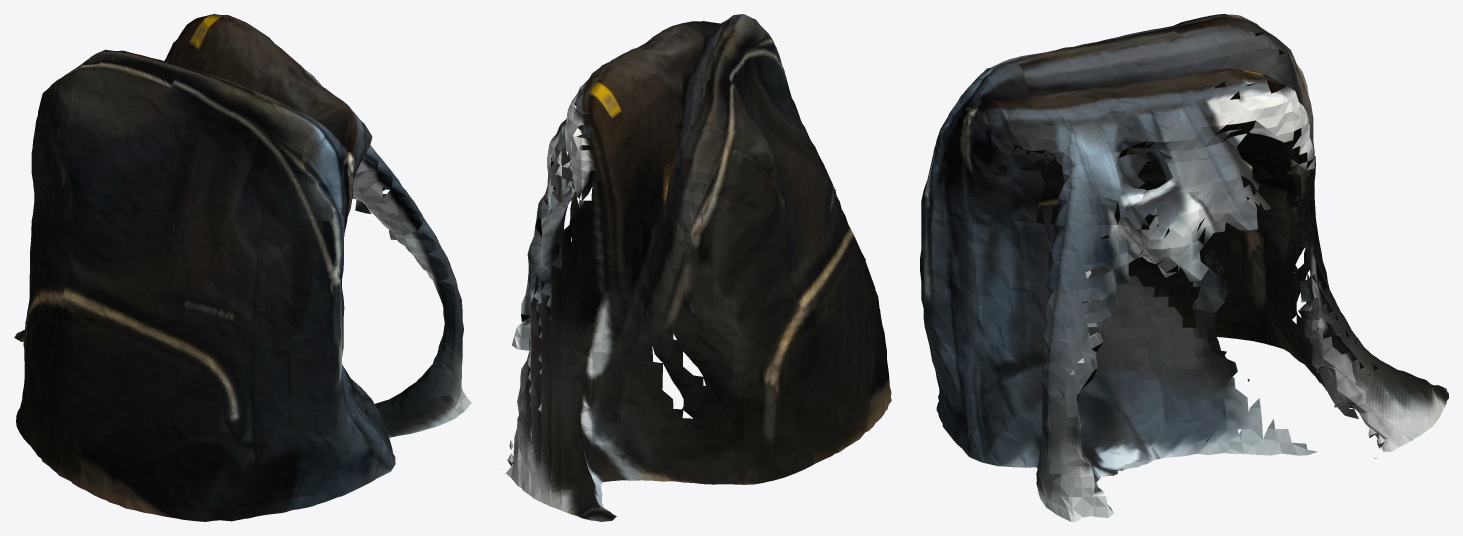
The model's file is Untitled_Scan_13_50_21.fbx.
3 views of the same model, side by side, from view 1: azimuth 30°, elevation 25°; view 2: azimuth 150°, elevation 25°; view 3: azimuth 270°, elevation 25° (orthographic). The views are drawn at different scales.
Visible parts, largest first — view 1: Object; view 2: Object; view 3: Object.
Part boxes in pixels (x1,y1,x2,y2): Object: (14,14,471,521); Object: (500,14,891,521); Object: (920,14,1448,521).
Size of the model in its own units: 37.5 by 34.2 by 44.1.
Materials: 1 (1 with a texture image).
